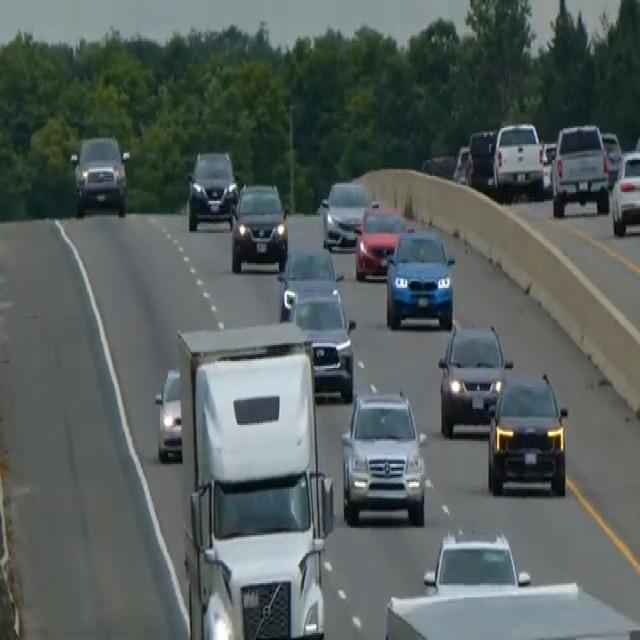car: (340, 388, 426, 526), (486, 368, 568, 496), (280, 279, 356, 400), (437, 320, 512, 437), (384, 226, 456, 329), (551, 119, 610, 215), (229, 180, 289, 272), (69, 131, 130, 217), (353, 197, 408, 281), (277, 242, 341, 314), (186, 148, 238, 231), (492, 119, 544, 199), (320, 178, 370, 249), (153, 364, 183, 462), (610, 146, 639, 236), (464, 126, 497, 190), (600, 128, 622, 187), (420, 151, 456, 180), (452, 142, 470, 183)
lorry: (161, 320, 335, 638), (383, 526, 639, 638)
